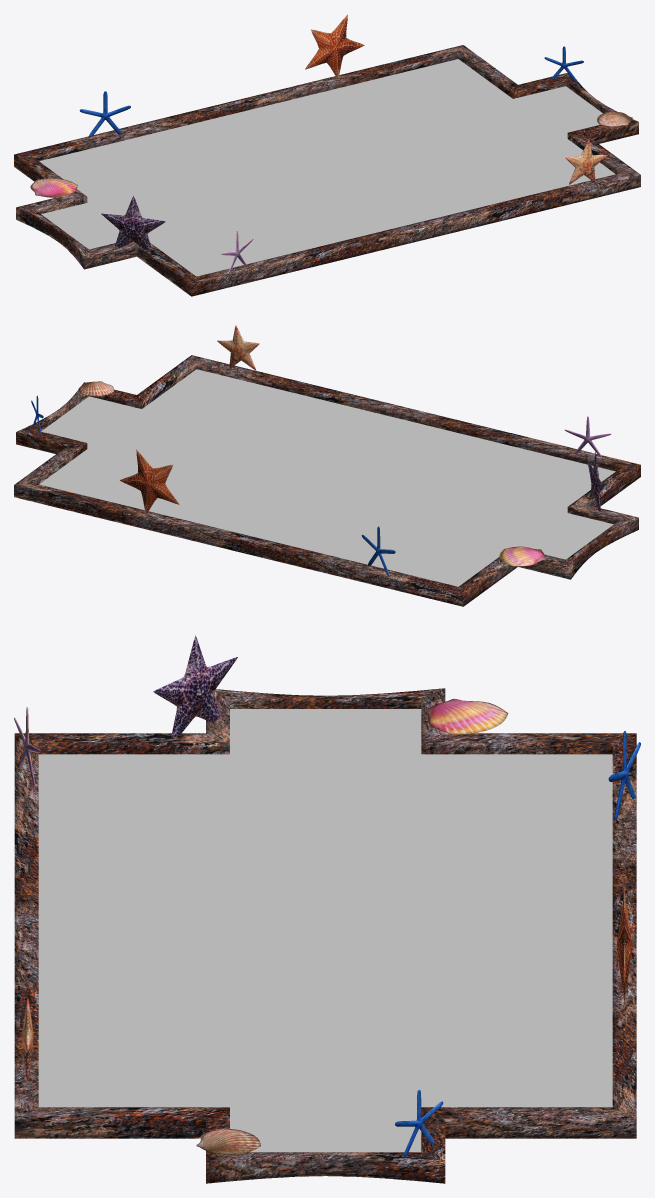
The model's file is SeaTable .fbx.
3 views of the same model, one above another, from view 1: azimuth 30°, elevation 25°; view 2: azimuth 150°, elevation 25°; view 3: azimuth 270°, elevation 25° (orthographic). The views are drawn at different scales.
Visible parts, largest first — view 1: SeaTableField, SeaTableBorder; view 2: SeaTableField, SeaTableBorder; view 3: SeaTableField, SeaTableBorder.
Part boxes in pixels (bbox=[...]): SeaTableField: bbox=[39, 59, 615, 276]; SeaTableBorder: bbox=[14, 14, 640, 296]; SeaTableField: bbox=[39, 369, 615, 586]; SeaTableBorder: bbox=[14, 325, 640, 606]; SeaTableField: bbox=[38, 709, 612, 1152]; SeaTableBorder: bbox=[14, 635, 640, 1183].
Size of the model in its own units: 23.46 by 3 by 13.11.
